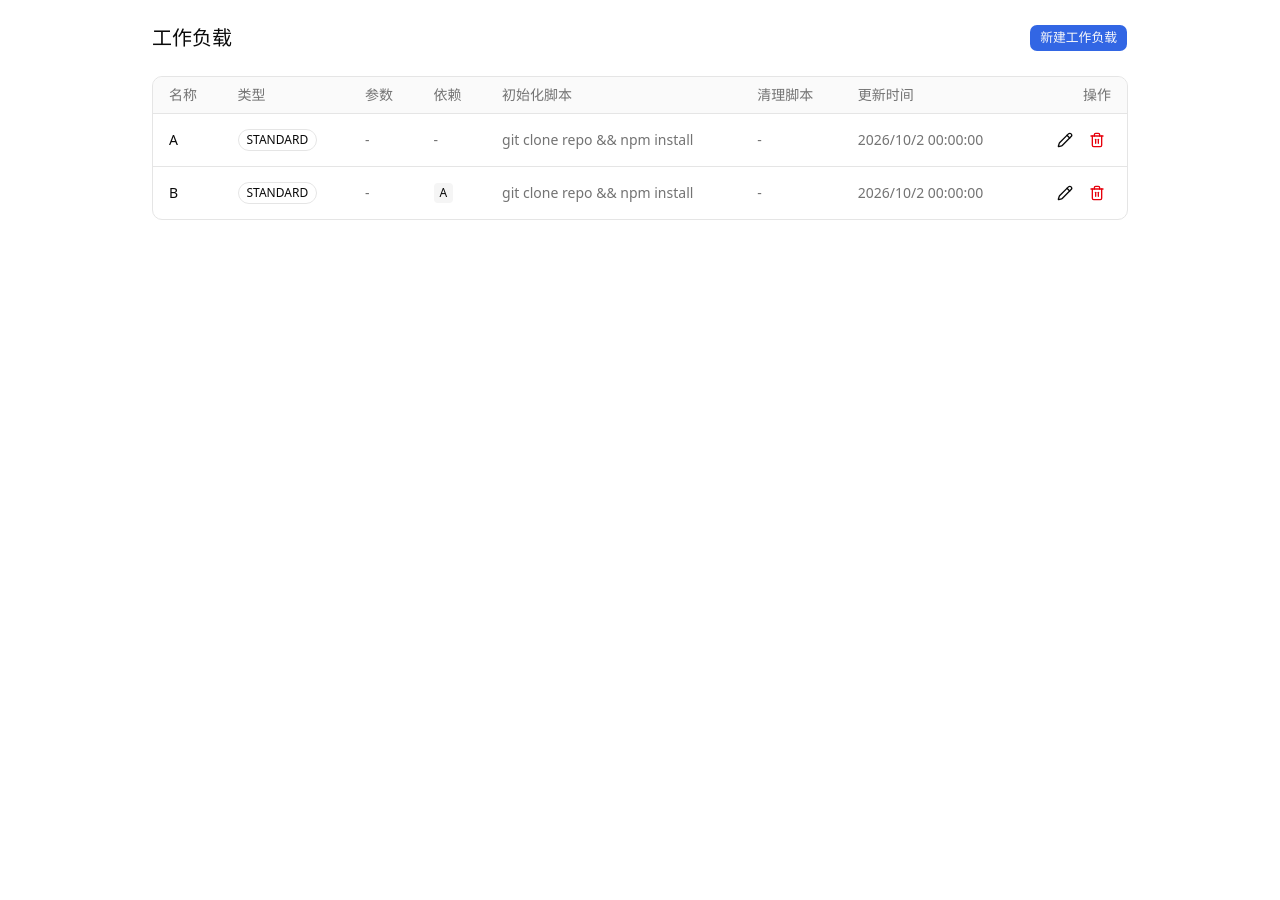
Test: CloudWorkloadsPage › T-FP4: blocks save and hints when a dependency cycle is introduced
Click the button named "编辑 A". click: point(1065, 140)
box: [1051,126,1079,154]
(page scrolled)
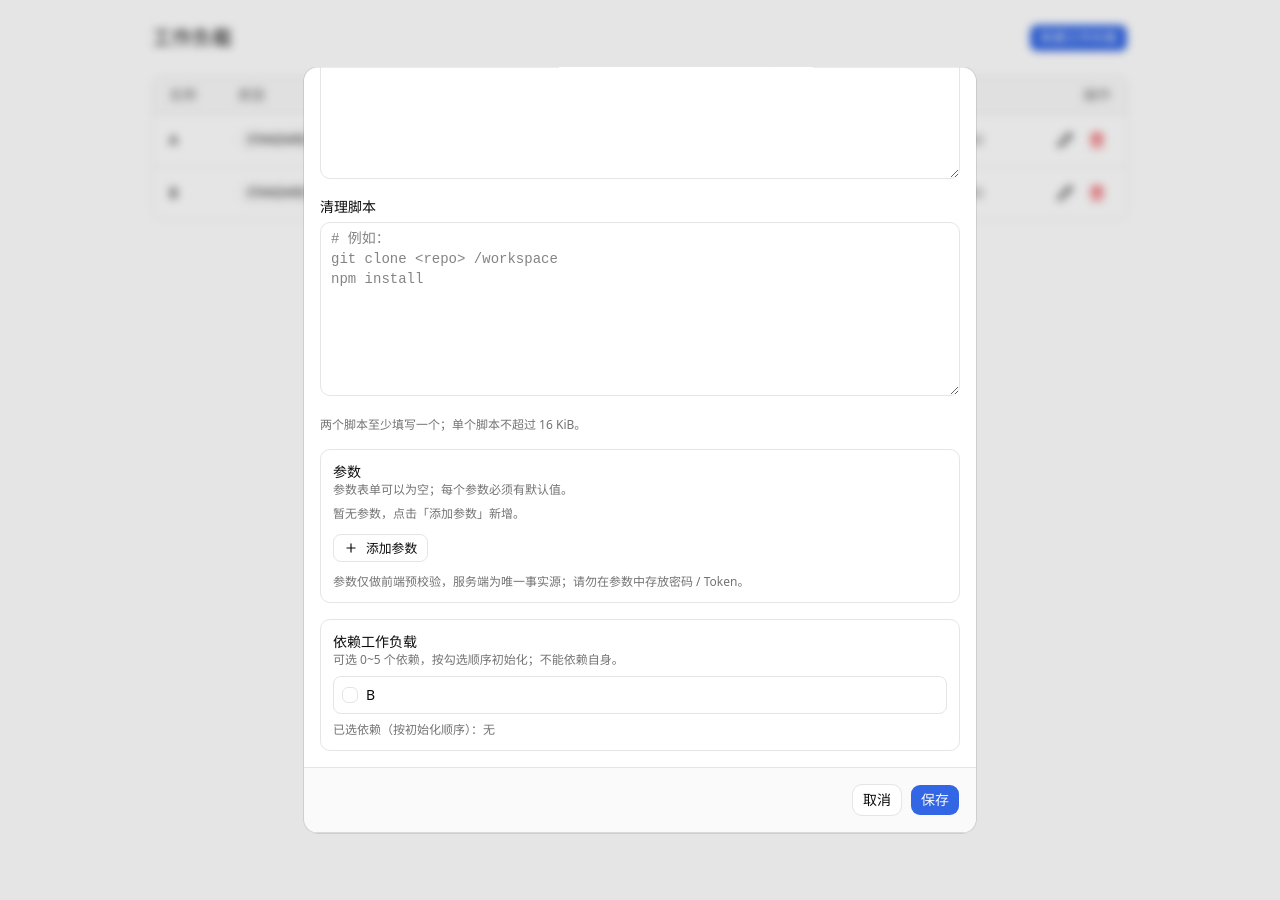
Click the checkbox named "B". click: point(350, 696)
box: [342,688,358,704]
(page scrolled)
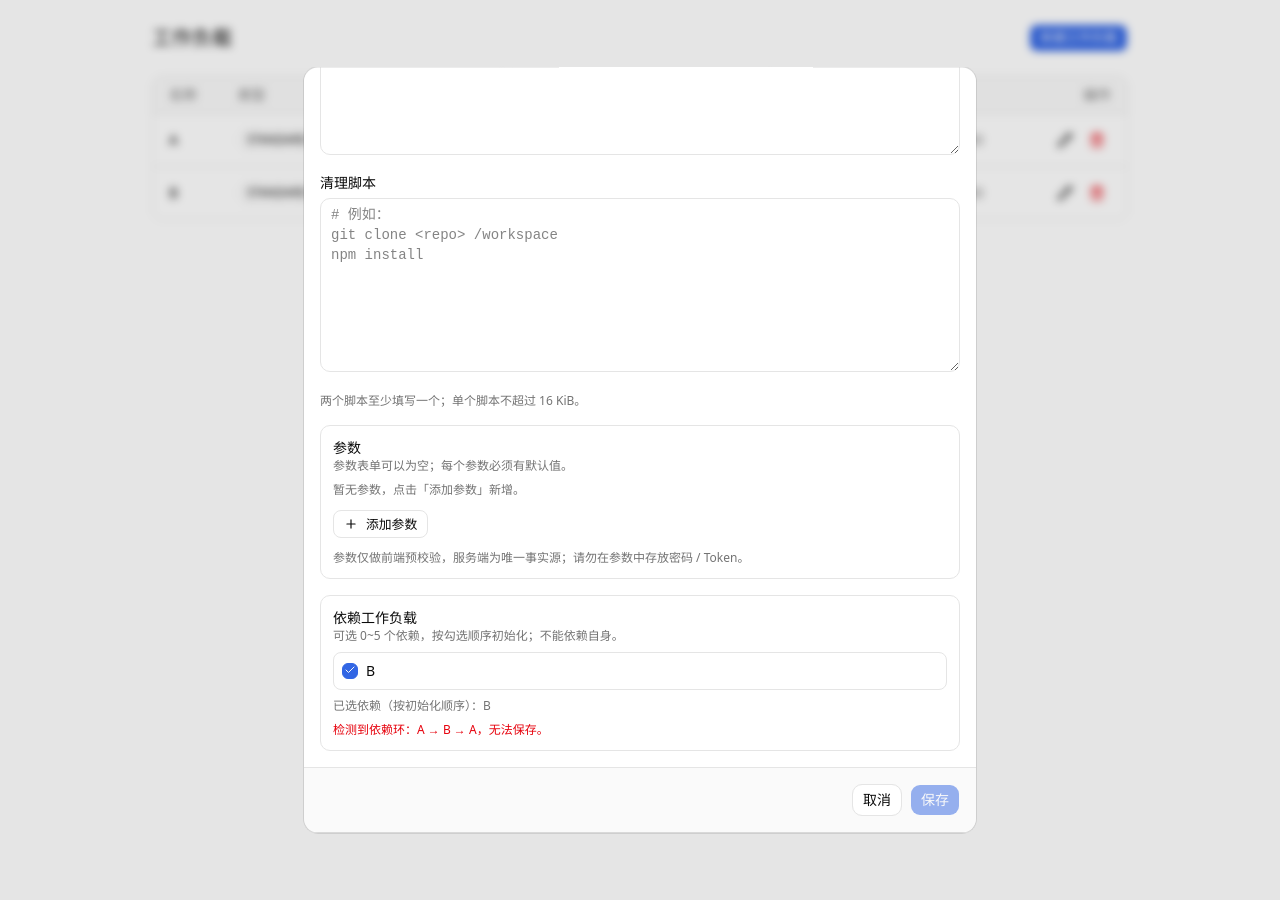
Now the text "检测到依赖环：A → B → A，无法保存。" is shown, box [333,722,549,738]
Now the button "保存" is disabled, box [910,784,960,816]
